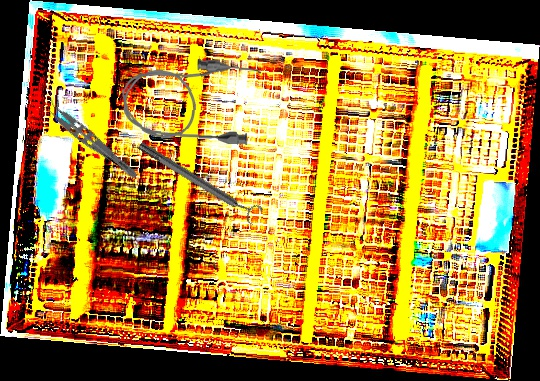Cannula: (119, 55, 262, 146)
Fixation Ring: (134, 135, 264, 227)
Tissue Forceps: (40, 96, 145, 181)
